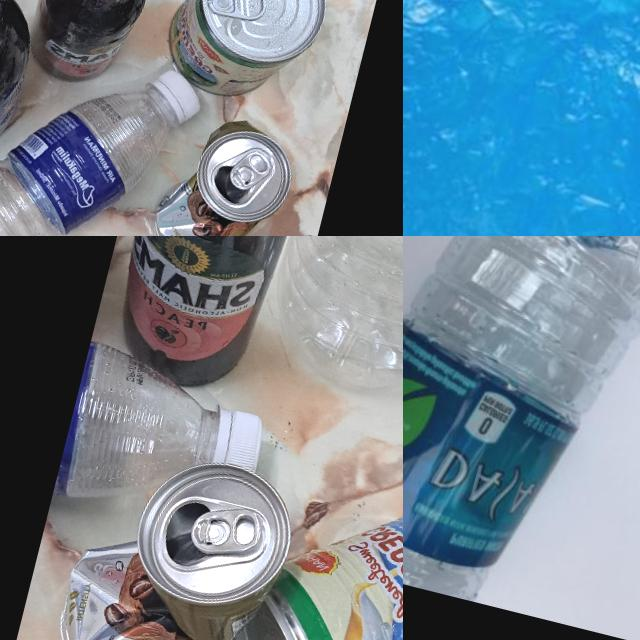aba de lata: (186, 496, 263, 564), (227, 148, 274, 198), (205, 0, 270, 25)
garrafa de vidro: (86, 236, 313, 402), (20, 0, 166, 96)
garrafa plástica: (403, 236, 640, 627), (51, 339, 233, 534), (0, 39, 174, 236), (257, 236, 403, 427)
lata: (47, 435, 305, 640), (205, 443, 403, 640), (144, 102, 303, 236), (155, 0, 336, 111)
sacola plástica: (403, 0, 640, 236)
tampa plástica: (146, 66, 208, 126), (212, 408, 268, 474)
